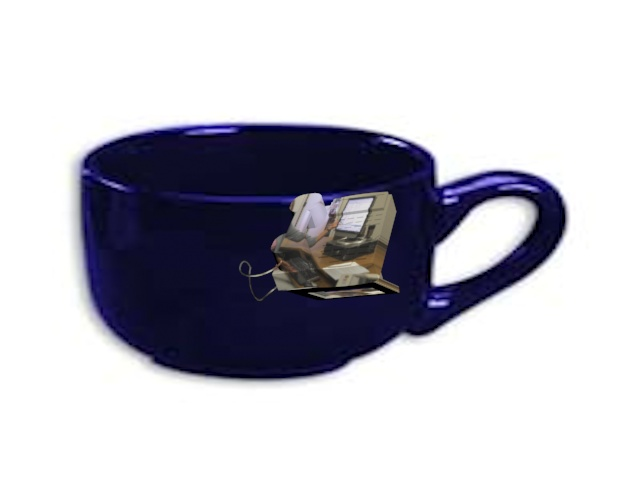phone: (233, 185, 401, 305)
